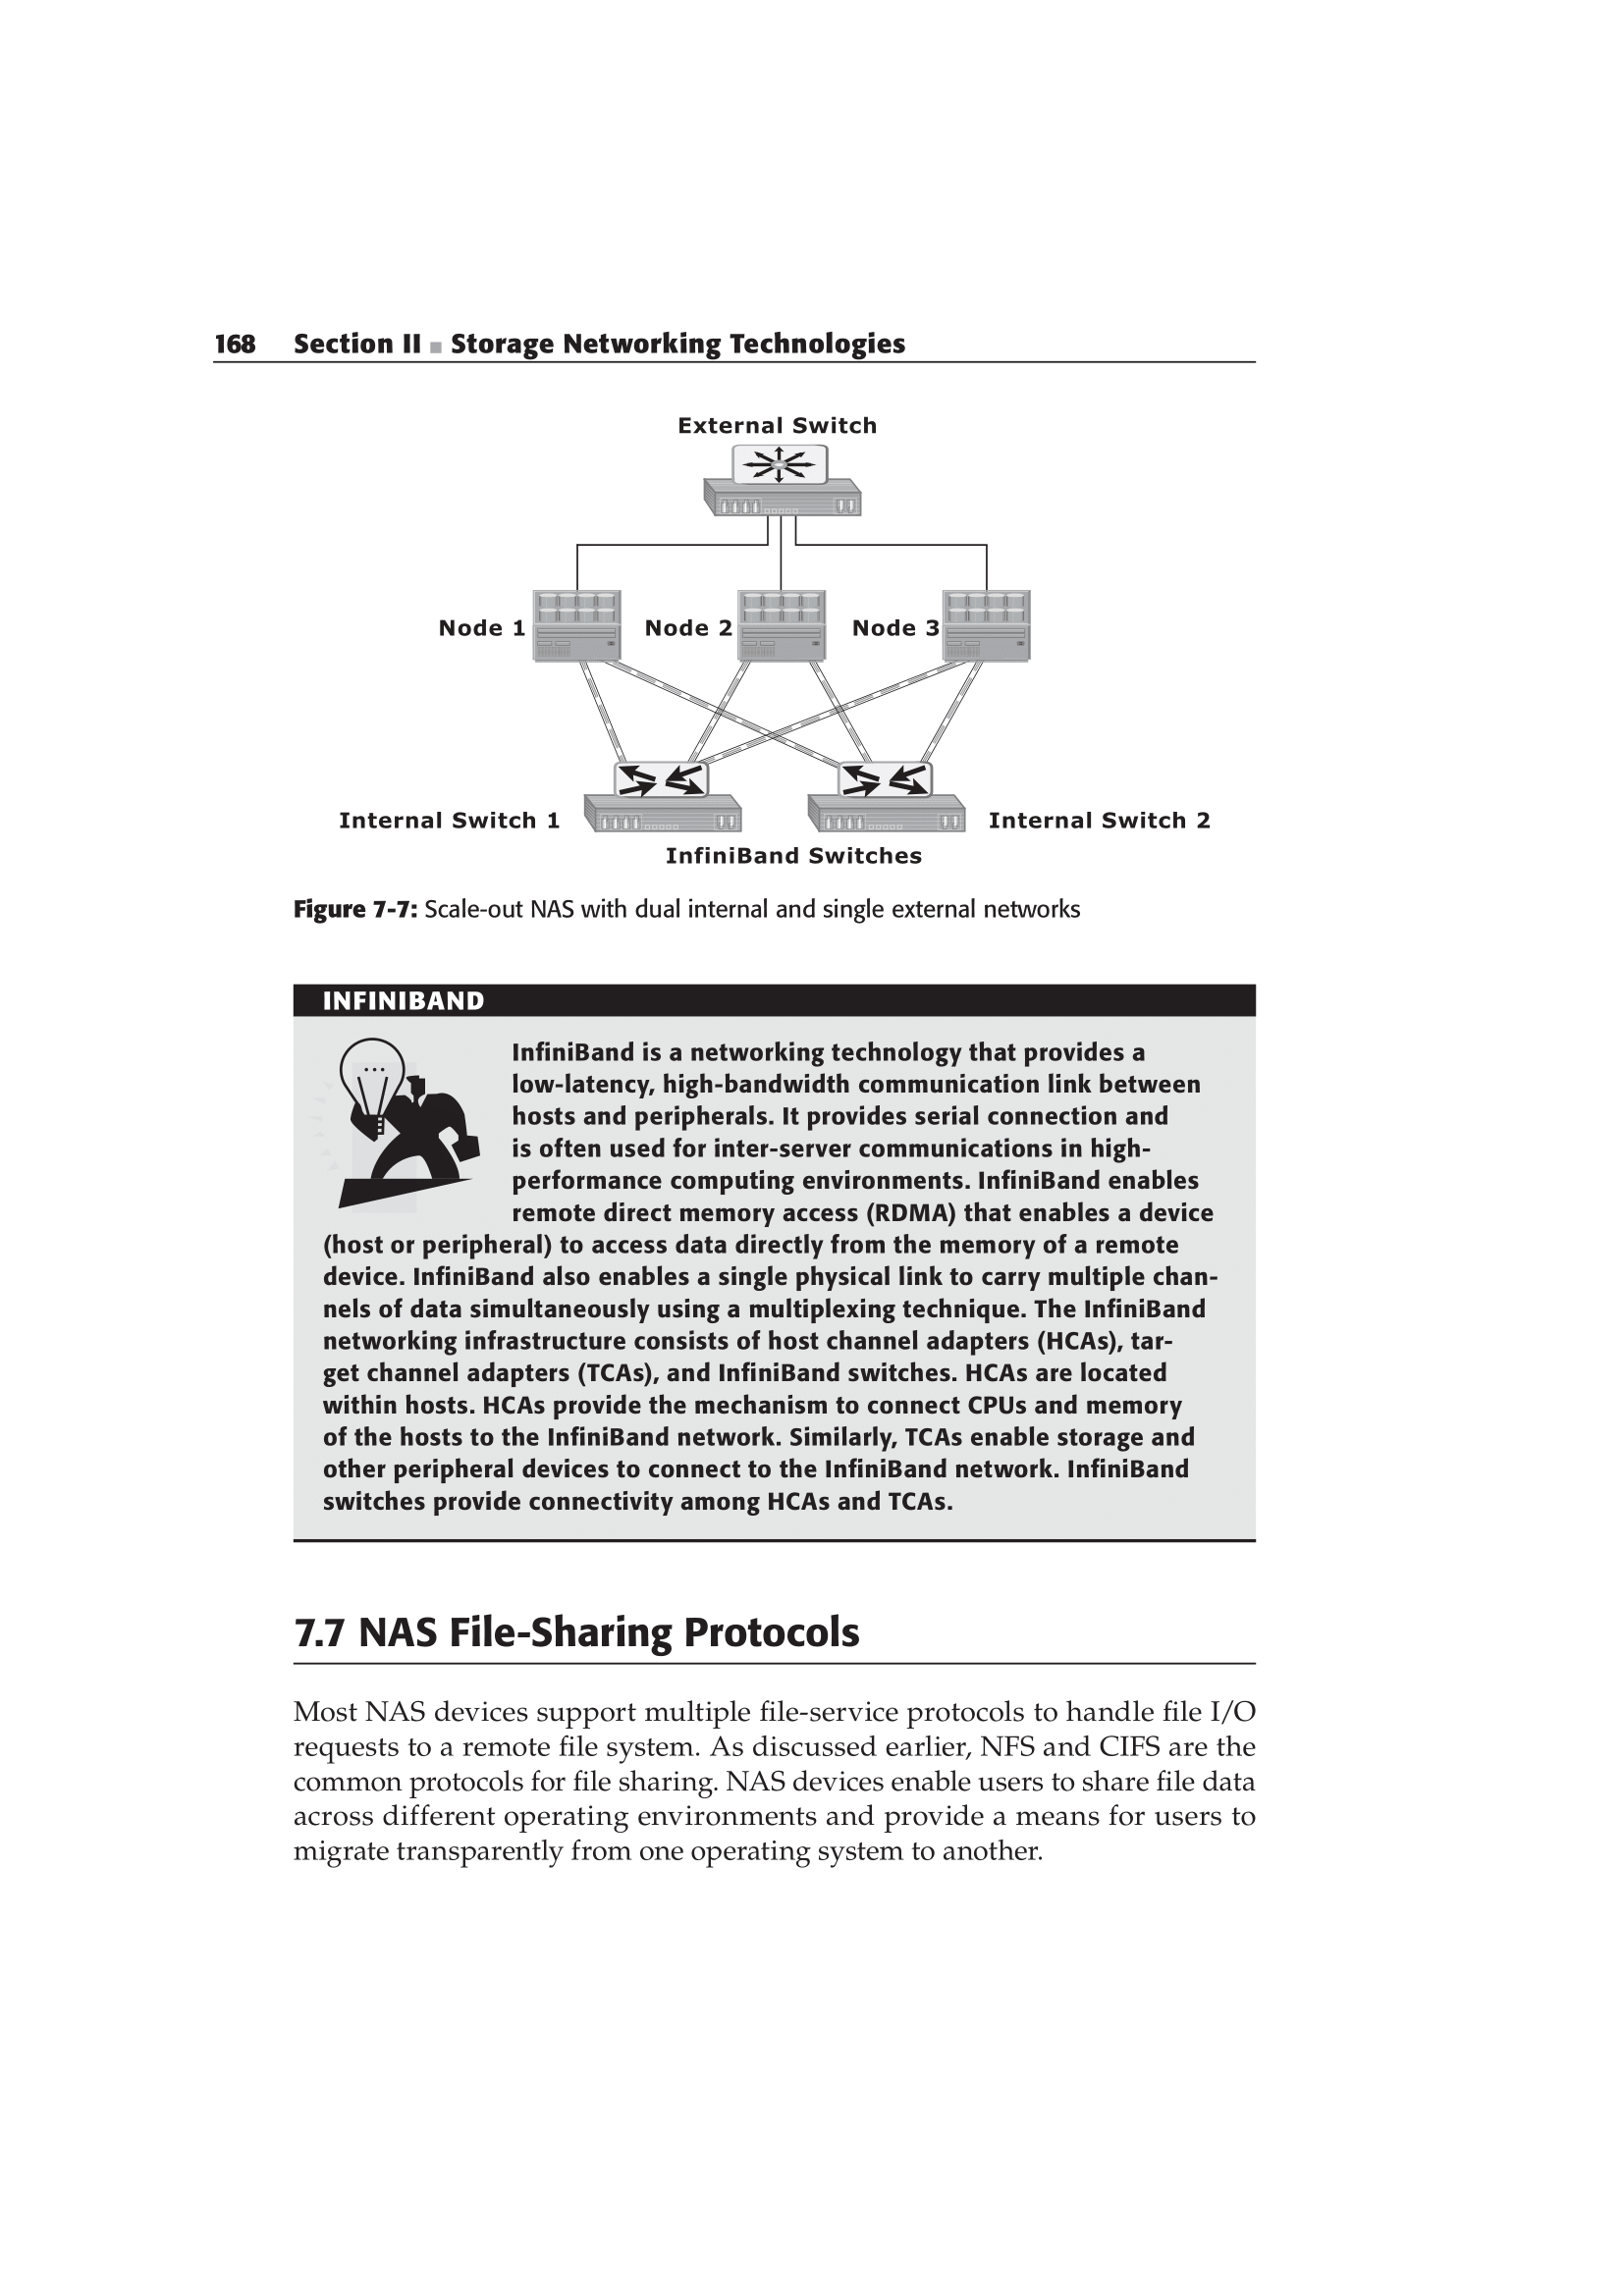Image: (185, 410, 1471, 876), (260, 1035, 499, 1215)
Paragraph: (294, 1232, 1223, 1517), (260, 1684, 1308, 1886), (490, 1043, 1228, 1232), (235, 884, 1190, 964), (209, 297, 1001, 390), (247, 1600, 977, 1655), (214, 981, 545, 1035)
